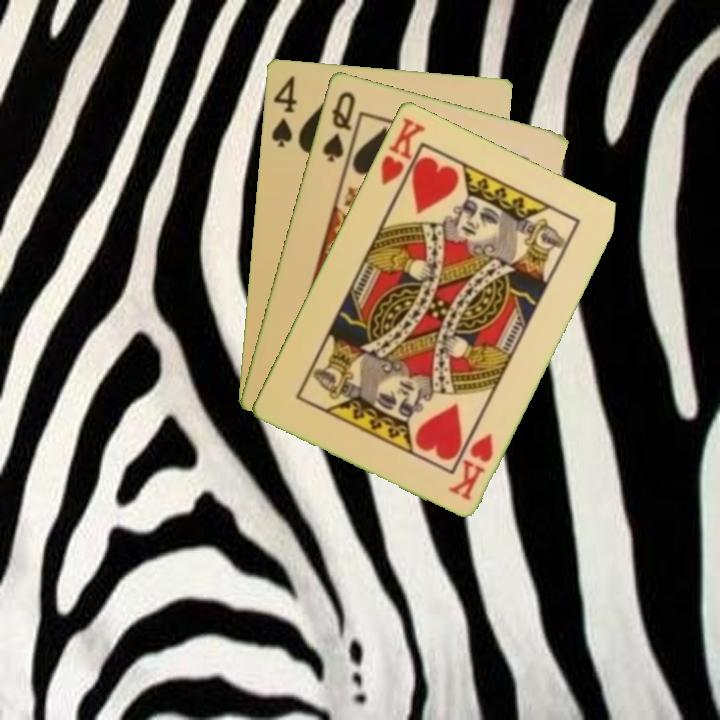4s: (268, 72, 299, 150)
Kh: (376, 113, 428, 198), (444, 429, 496, 503)
Qs: (318, 87, 358, 165)
